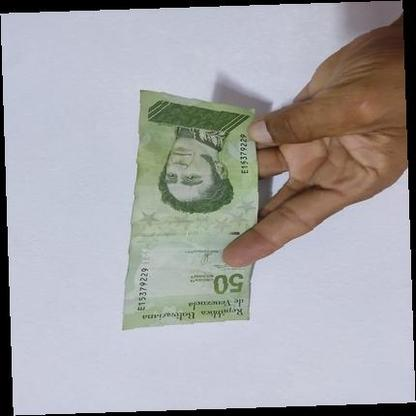fifty-front-vef: (122, 89, 260, 330)
